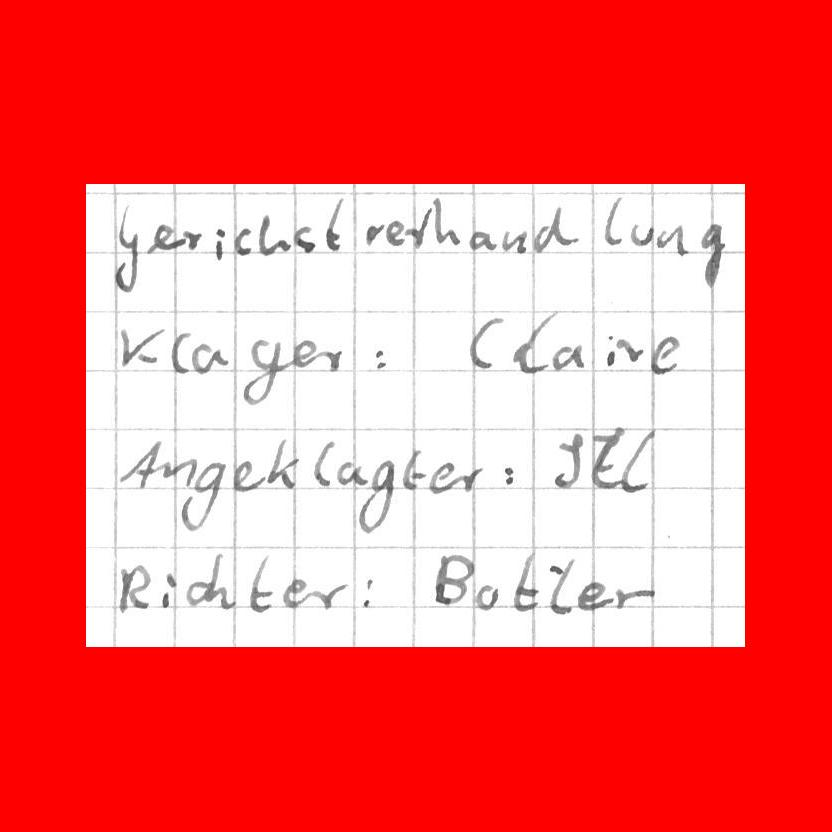Char: (181, 461, 224, 533), (358, 457, 396, 535), (616, 425, 656, 499), (110, 201, 142, 292), (242, 339, 285, 405), (549, 431, 589, 492), (511, 315, 553, 372), (432, 551, 473, 607), (119, 440, 163, 492), (591, 423, 623, 491), (466, 317, 506, 369), (537, 203, 581, 250), (262, 436, 298, 493), (204, 551, 237, 611), (118, 325, 163, 367), (510, 552, 541, 612), (698, 221, 727, 284), (546, 558, 576, 616), (118, 561, 151, 613), (257, 211, 291, 258), (323, 196, 349, 256), (248, 553, 273, 613), (435, 195, 464, 246), (650, 333, 681, 376), (189, 342, 230, 374), (161, 454, 199, 488), (602, 195, 626, 247), (408, 202, 434, 250), (656, 223, 689, 258), (334, 458, 369, 489), (551, 343, 591, 370), (309, 583, 347, 611), (170, 327, 191, 377), (613, 583, 653, 609), (313, 441, 335, 488), (576, 581, 610, 611), (232, 458, 261, 492), (401, 449, 425, 490), (147, 220, 175, 253), (429, 460, 456, 493), (287, 337, 314, 370), (282, 577, 307, 609), (158, 570, 178, 609), (499, 227, 527, 254), (619, 338, 645, 367), (457, 463, 483, 492), (293, 222, 317, 253), (315, 345, 342, 372), (175, 227, 201, 255), (183, 578, 206, 608), (475, 583, 501, 609), (629, 221, 654, 248), (234, 226, 254, 258), (386, 218, 406, 247), (468, 229, 493, 252), (362, 220, 383, 247), (360, 576, 376, 611), (212, 226, 227, 261), (370, 346, 390, 371), (500, 462, 518, 487), (603, 339, 617, 367)
